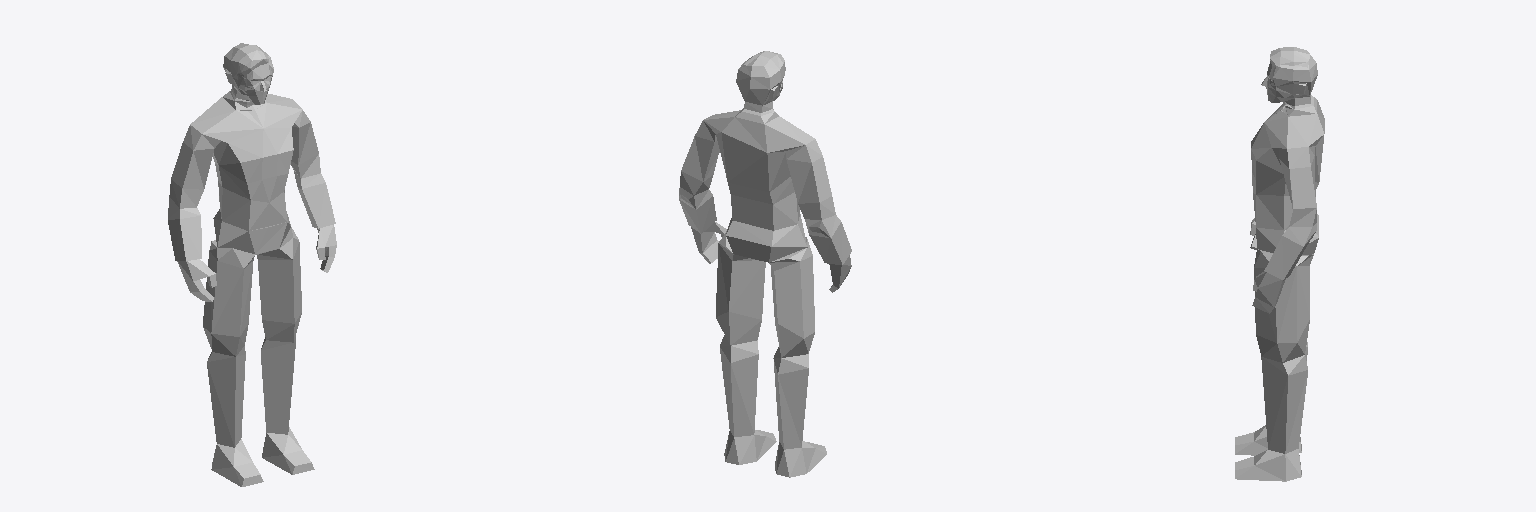
File: Manuel25.obj
3 views of the same model, side by side, from view 1: azimuth 30°, elevation 25°; view 2: azimuth 150°, elevation 25°; view 3: azimuth 270°, elevation 25° (orthographic).
Visible parts, largest first — view 1: leon; view 2: leon; view 3: leon.
Part boxes in pixels (bbox=[...]): leon: bbox=[168, 43, 336, 486]; leon: bbox=[679, 51, 851, 477]; leon: bbox=[1235, 47, 1324, 481].
Bounding box in the file's own units: 4.81 × 12.18 × 2.44.